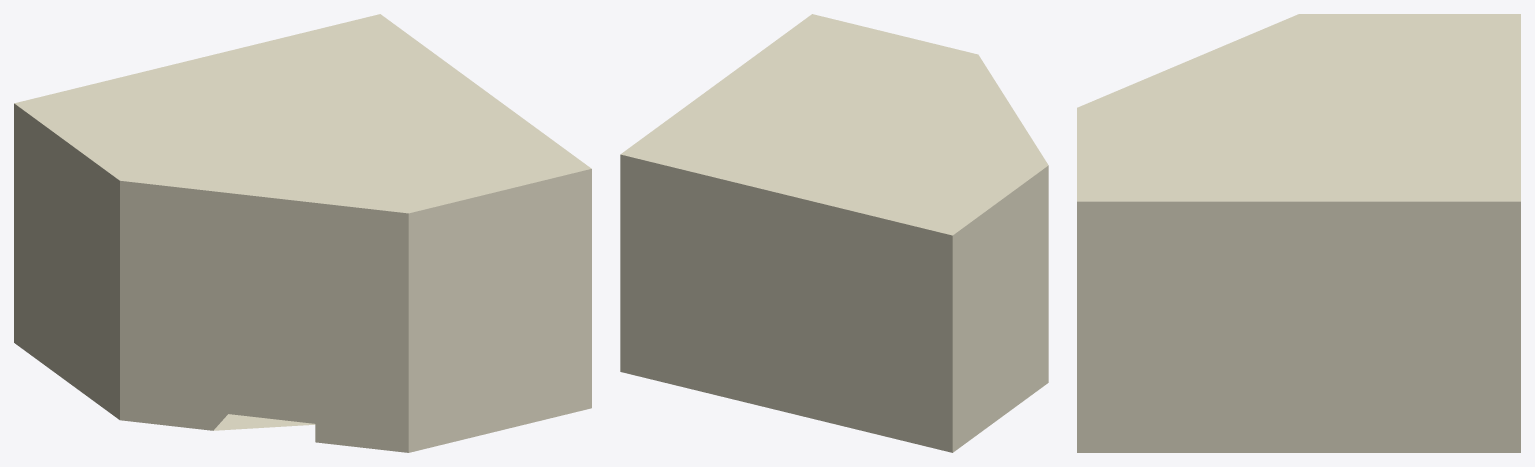
Rendered from modularbuildings_059.glb.
3 renders of one model, left to right at view 1: azimuth 30°, elevation 25°; view 2: azimuth 150°, elevation 25°; view 3: azimuth 270°, elevation 25°, orthographic. The views are drawn at different scales.
Parts seen in each view (by area): view 1: Mesh1 Group1 Model; view 2: Mesh1 Group1 Model; view 3: Mesh1 Group1 Model.
Part boxes in pixels (<box>): Mesh1 Group1 Model: <box>14,14,591,452</box>; Mesh1 Group1 Model: <box>620,14,1048,452</box>; Mesh1 Group1 Model: <box>1077,14,1520,452</box>.
Bounding box in the file's own units: 1 × 0.625 × 1.
